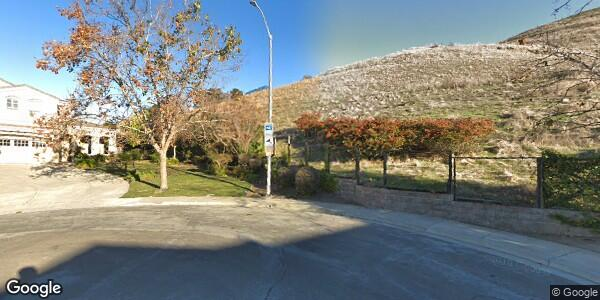Steel_Pole: (249, 1, 276, 200)
